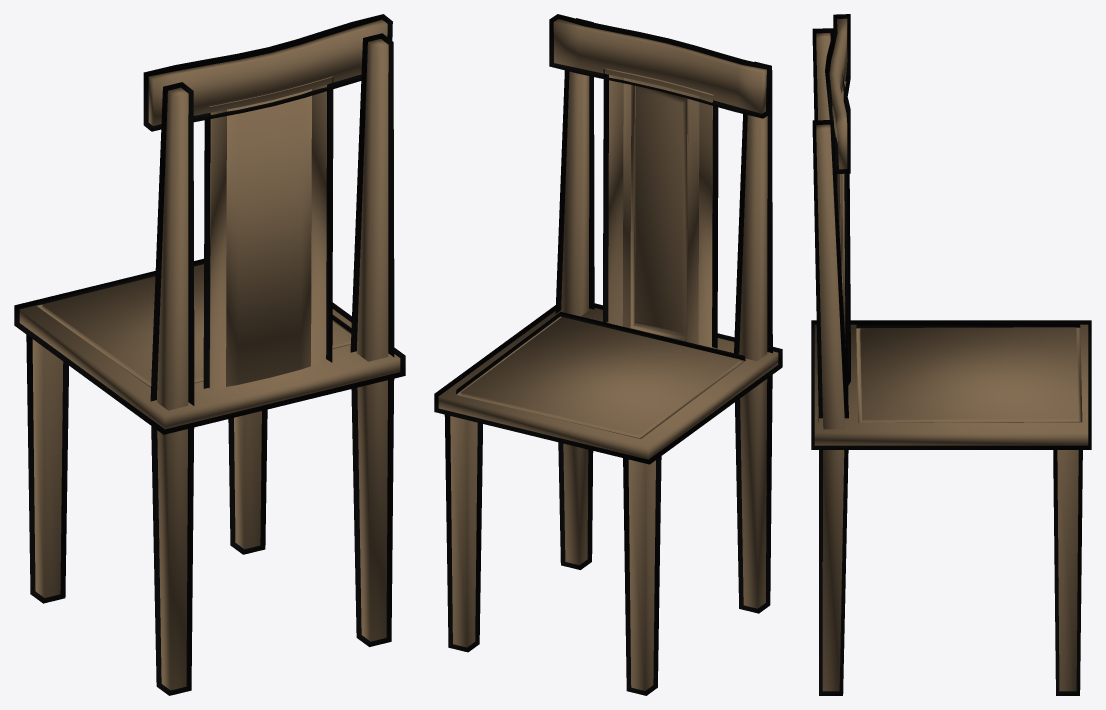
Rendered from Silla.fbx.
The picture shows the model from 3 angles, left to right: view 1: azimuth 30°, elevation 25°; view 2: azimuth 150°, elevation 25°; view 3: azimuth 270°, elevation 25°; orthographic projection. The views are drawn at different scales.
Visible parts, largest first — view 1: Chair#4.002; view 2: Chair#4.002; view 3: Chair#4.002.
Part boxes in pixels (x1,y1,x2,y2): Chair#4.002: [14, 14, 405, 695]; Chair#4.002: [434, 14, 782, 695]; Chair#4.002: [811, 14, 1091, 695].
Bounding box in the file's own units: 0.4359 × 1.06 × 0.4659.
